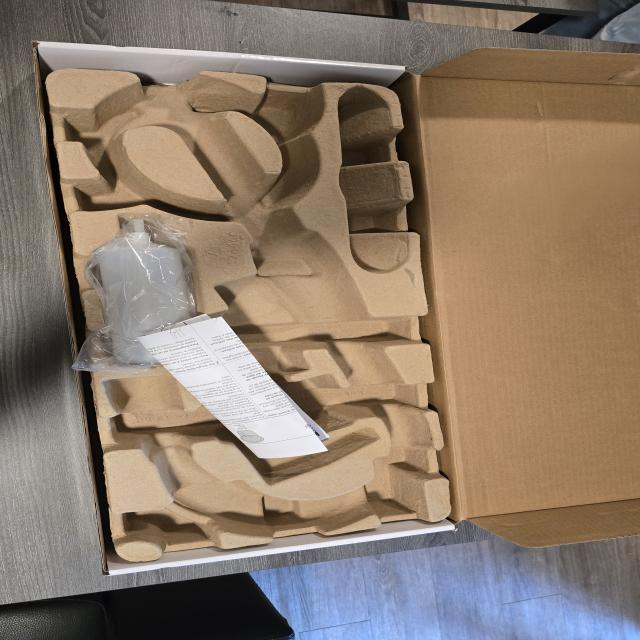1m: (103, 71, 432, 535)
2m: (207, 382, 379, 483)
3o: (95, 216, 203, 366)
4m: (337, 85, 413, 272)
5m: (253, 94, 315, 141)
6m: (66, 97, 142, 145)
7m: (78, 166, 183, 213)
8: (135, 313, 333, 458)
